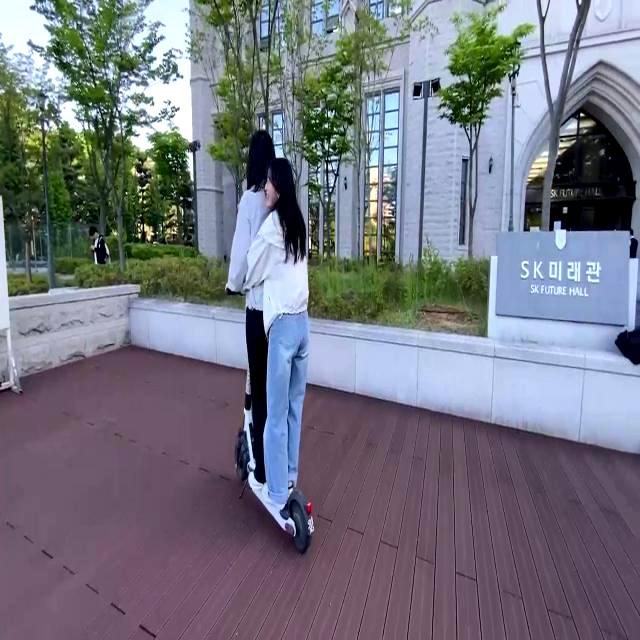bare_head: (255, 152, 304, 210), (240, 132, 286, 187)
human: (249, 159, 319, 509), (223, 132, 287, 484)
kickboard: (227, 418, 325, 552)
